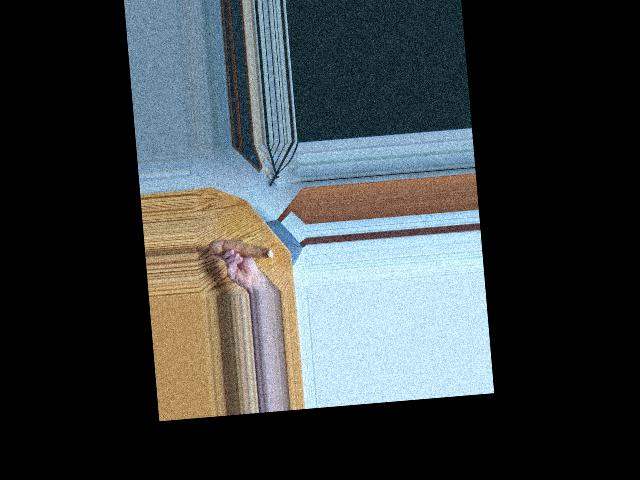sweet_potato: (211, 232, 271, 265)
